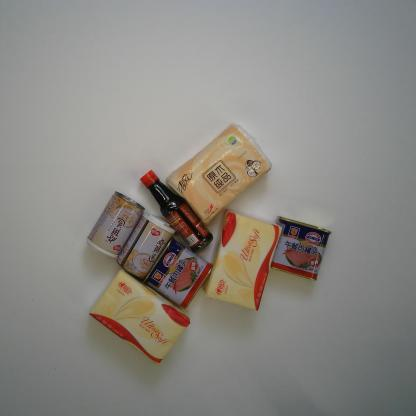Canned Food: (140, 236, 212, 310), (116, 212, 177, 281), (270, 216, 332, 281), (86, 192, 145, 260)
Seasoner: (139, 170, 214, 254)
Tissue: (166, 122, 273, 226), (89, 269, 191, 366), (203, 209, 283, 312)
